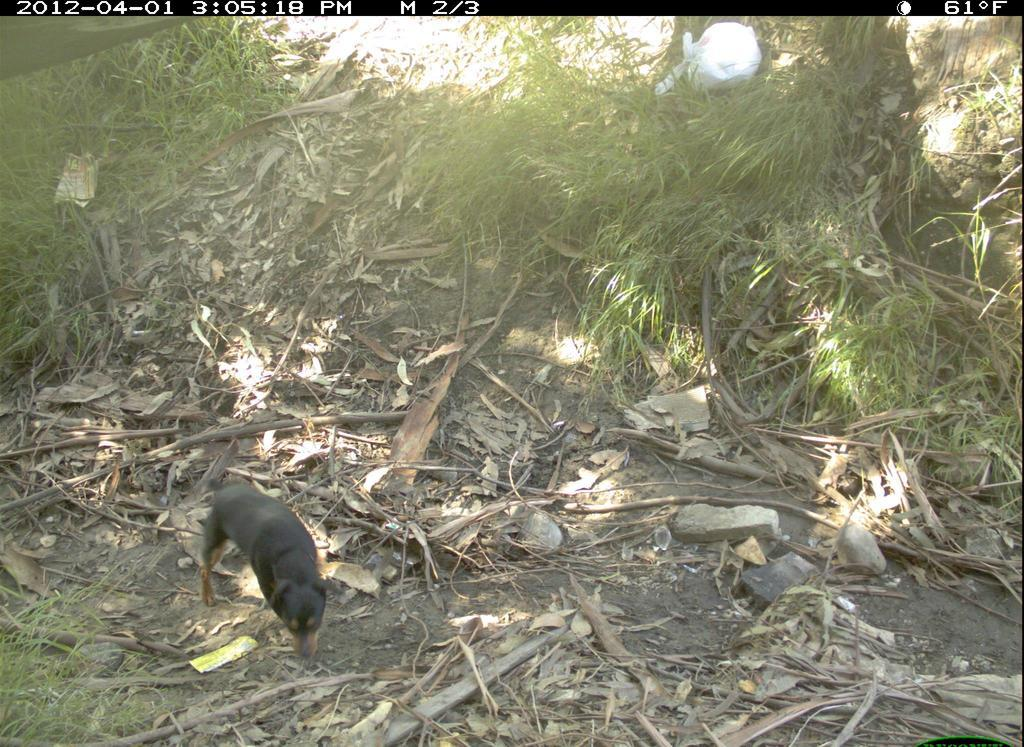dog: (185, 463, 336, 669)
